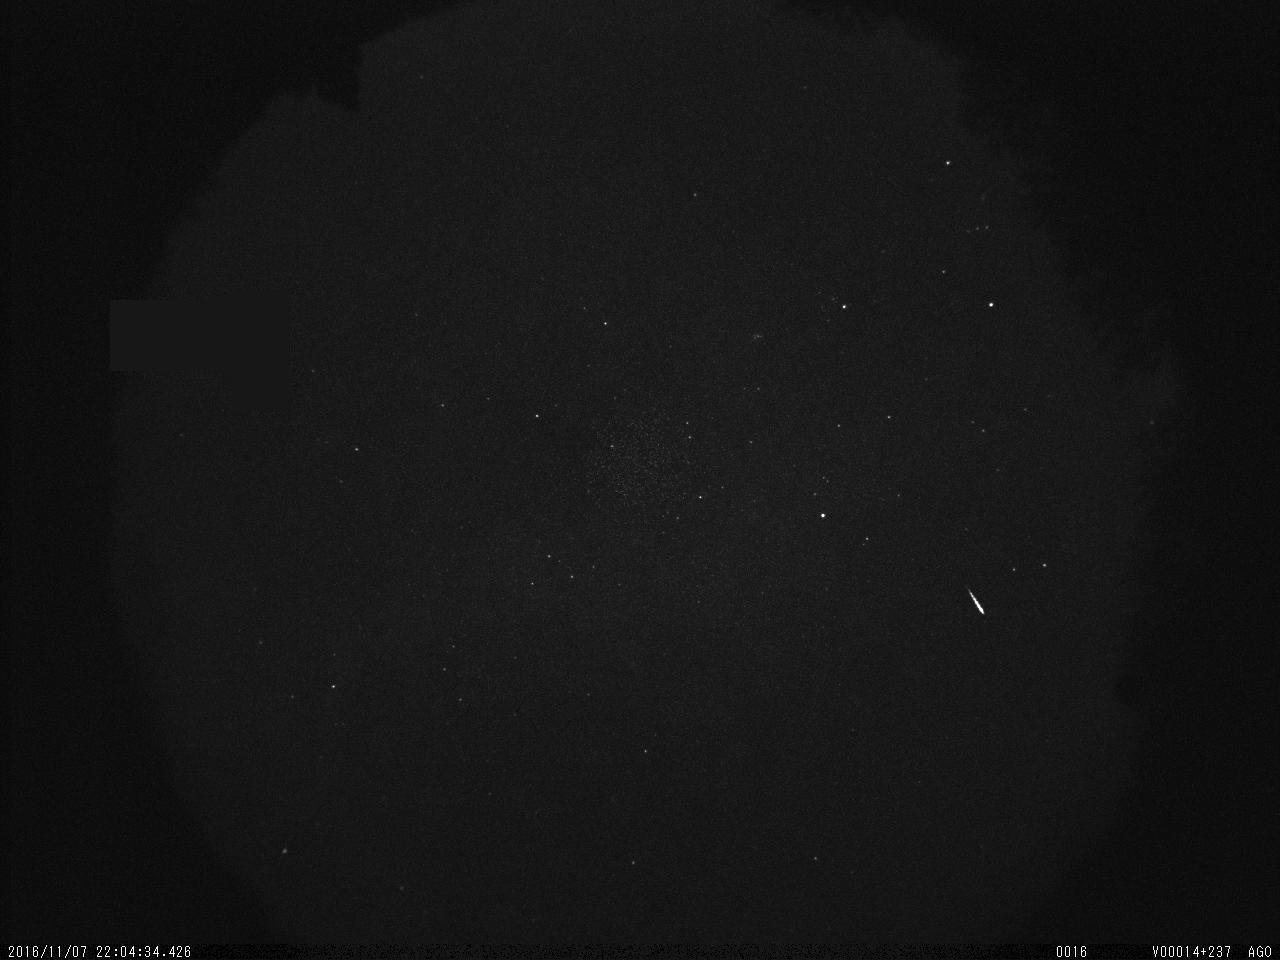meteor: (952, 573, 1005, 634)
